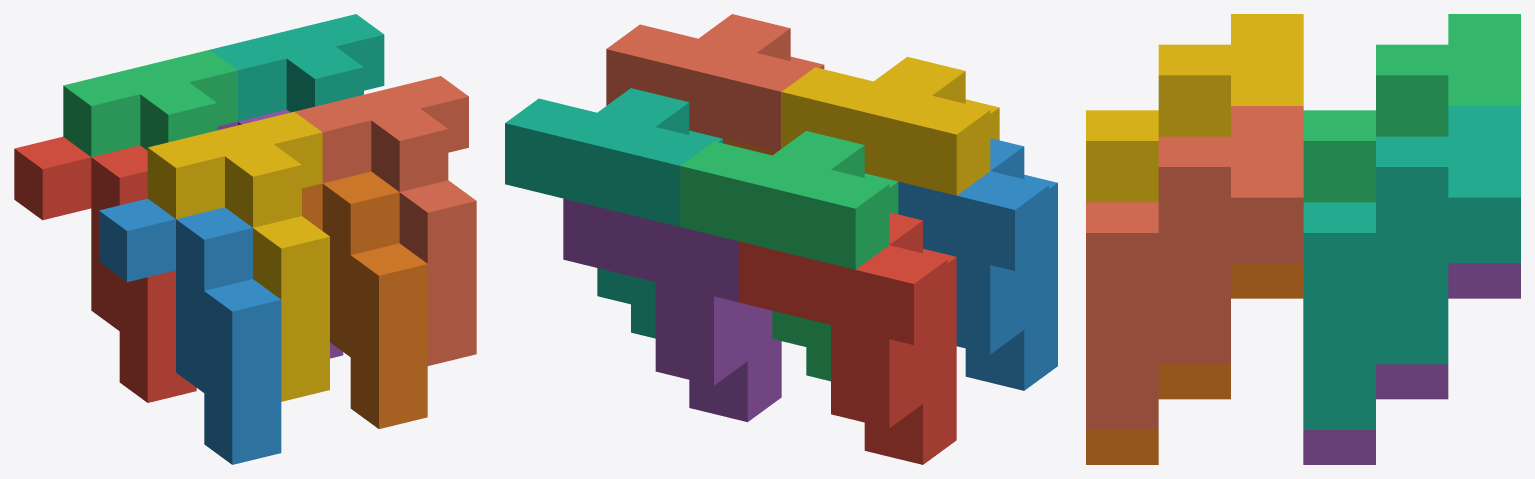
File: tiling.obj
3 views of the same model, side by side, from view 1: azimuth 30°, elevation 25°; view 2: azimuth 150°, elevation 25°; view 3: azimuth 270°, elevation 25° (orthographic). The views are drawn at different scales.
Visible parts, largest first — view 1: copy_1_domain_2, copy_1_domain_4, copy_1_domain_8, copy_1_domain_6, copy_1_domain_1, copy_1_domain_3, copy_1_domain_7, copy_1_domain_5; view 2: copy_1_domain_1, copy_1_domain_2, copy_1_domain_3, copy_1_domain_5, copy_1_domain_7, copy_1_domain_4, copy_1_domain_8; view 3: copy_1_domain_7, copy_1_domain_8, copy_1_domain_4, copy_1_domain_3, copy_1_domain_5, copy_1_domain_6.
Boxes of the visible parts, x1,y1,x2,y2 form: copy_1_domain_2: (99, 198, 281, 464); copy_1_domain_4: (147, 111, 329, 401); copy_1_domain_8: (295, 76, 476, 365); copy_1_domain_6: (302, 171, 427, 428); copy_1_domain_1: (14, 136, 196, 402); copy_1_domain_3: (63, 49, 237, 157); copy_1_domain_7: (210, 14, 384, 121); copy_1_domain_5: (217, 109, 343, 358); copy_1_domain_1: (738, 212, 956, 464); copy_1_domain_2: (898, 138, 1057, 390); copy_1_domain_3: (680, 131, 898, 381); copy_1_domain_5: (563, 198, 781, 422); copy_1_domain_7: (505, 88, 722, 338); copy_1_domain_4: (781, 57, 999, 195); copy_1_domain_8: (606, 14, 824, 151); copy_1_domain_7: (1303, 106, 1520, 429); copy_1_domain_8: (1086, 106, 1303, 429); copy_1_domain_4: (1086, 14, 1303, 202); copy_1_domain_3: (1303, 14, 1520, 202); copy_1_domain_5: (1303, 263, 1520, 464); copy_1_domain_6: (1086, 263, 1303, 464).
Size of the model in its own units: 7 by 5 by 6.
